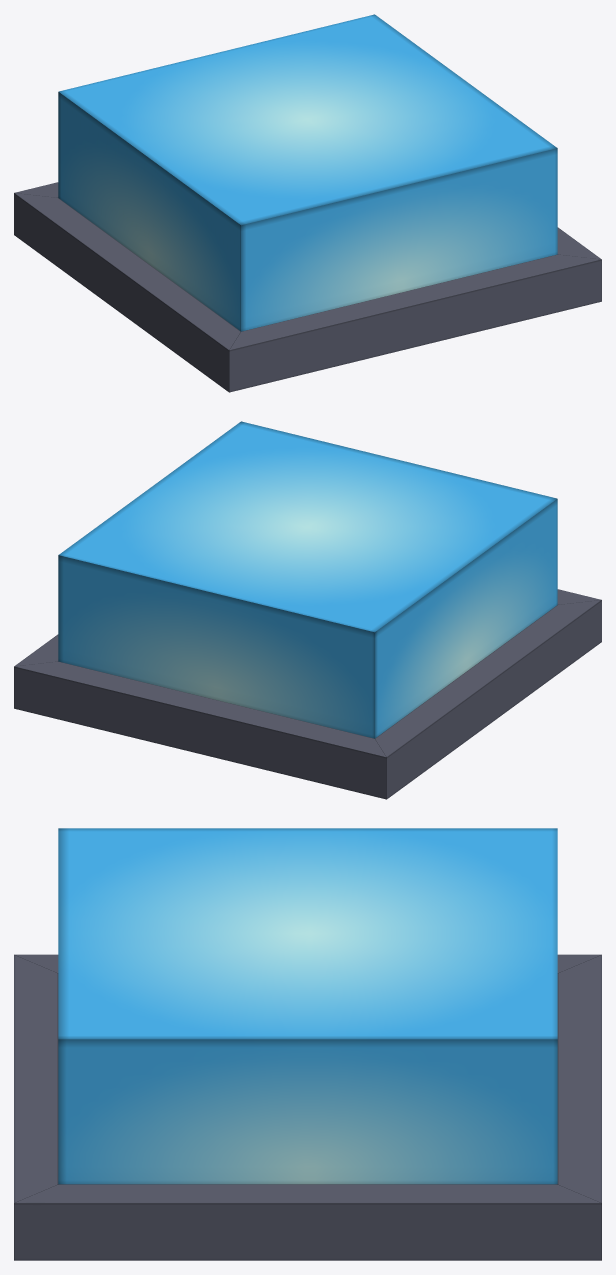
Rendered from Button_Squared_Blue.FBX.
3 views of the same model, one above another, from view 1: azimuth 30°, elevation 25°; view 2: azimuth 150°, elevation 25°; view 3: azimuth 270°, elevation 25° (orthographic). The views are drawn at different scales.
Parts seen in each view (by area): view 1: Push_Me, Button_Squared_Blue; view 2: Push_Me, Button_Squared_Blue; view 3: Push_Me, Button_Squared_Blue.
Boxes of the visible parts, x1,y1,x2,y2 form: Push_Me: [58, 14, 557, 331]; Button_Squared_Blue: [14, 182, 601, 392]; Push_Me: [58, 421, 557, 738]; Button_Squared_Blue: [14, 589, 601, 799]; Push_Me: [58, 828, 557, 1184]; Button_Squared_Blue: [14, 954, 601, 1260].
Size of the model in its own units: 0.0922 by 0.0351 by 0.0922.
